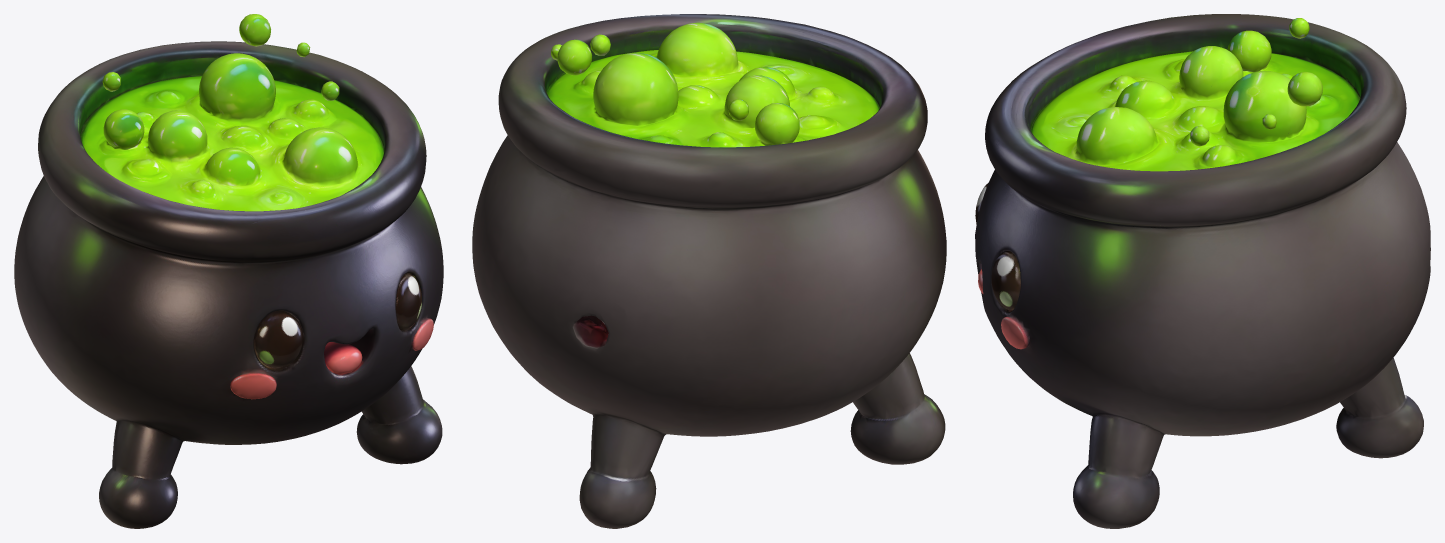
File: cauldron.glb
3 views of the same model, side by side, from view 1: azimuth 30°, elevation 25°; view 2: azimuth 150°, elevation 25°; view 3: azimuth 270°, elevation 25° (orthographic). The views are drawn at different scales.
Parts seen in each view (by area): view 1: tripo_node_2a74504c-8b16-4293-a085-06f846a7d94b; view 2: tripo_node_2a74504c-8b16-4293-a085-06f846a7d94b; view 3: tripo_node_2a74504c-8b16-4293-a085-06f846a7d94b.
Part boxes in pixels (x1,y1,x2,y2): tripo_node_2a74504c-8b16-4293-a085-06f846a7d94b: (14, 14, 443, 528); tripo_node_2a74504c-8b16-4293-a085-06f846a7d94b: (472, 14, 946, 528); tripo_node_2a74504c-8b16-4293-a085-06f846a7d94b: (975, 14, 1430, 528).
Size of the model in its own units: 0.9982 by 1 by 0.9927.
Materials: 1 (1 with a texture image).
